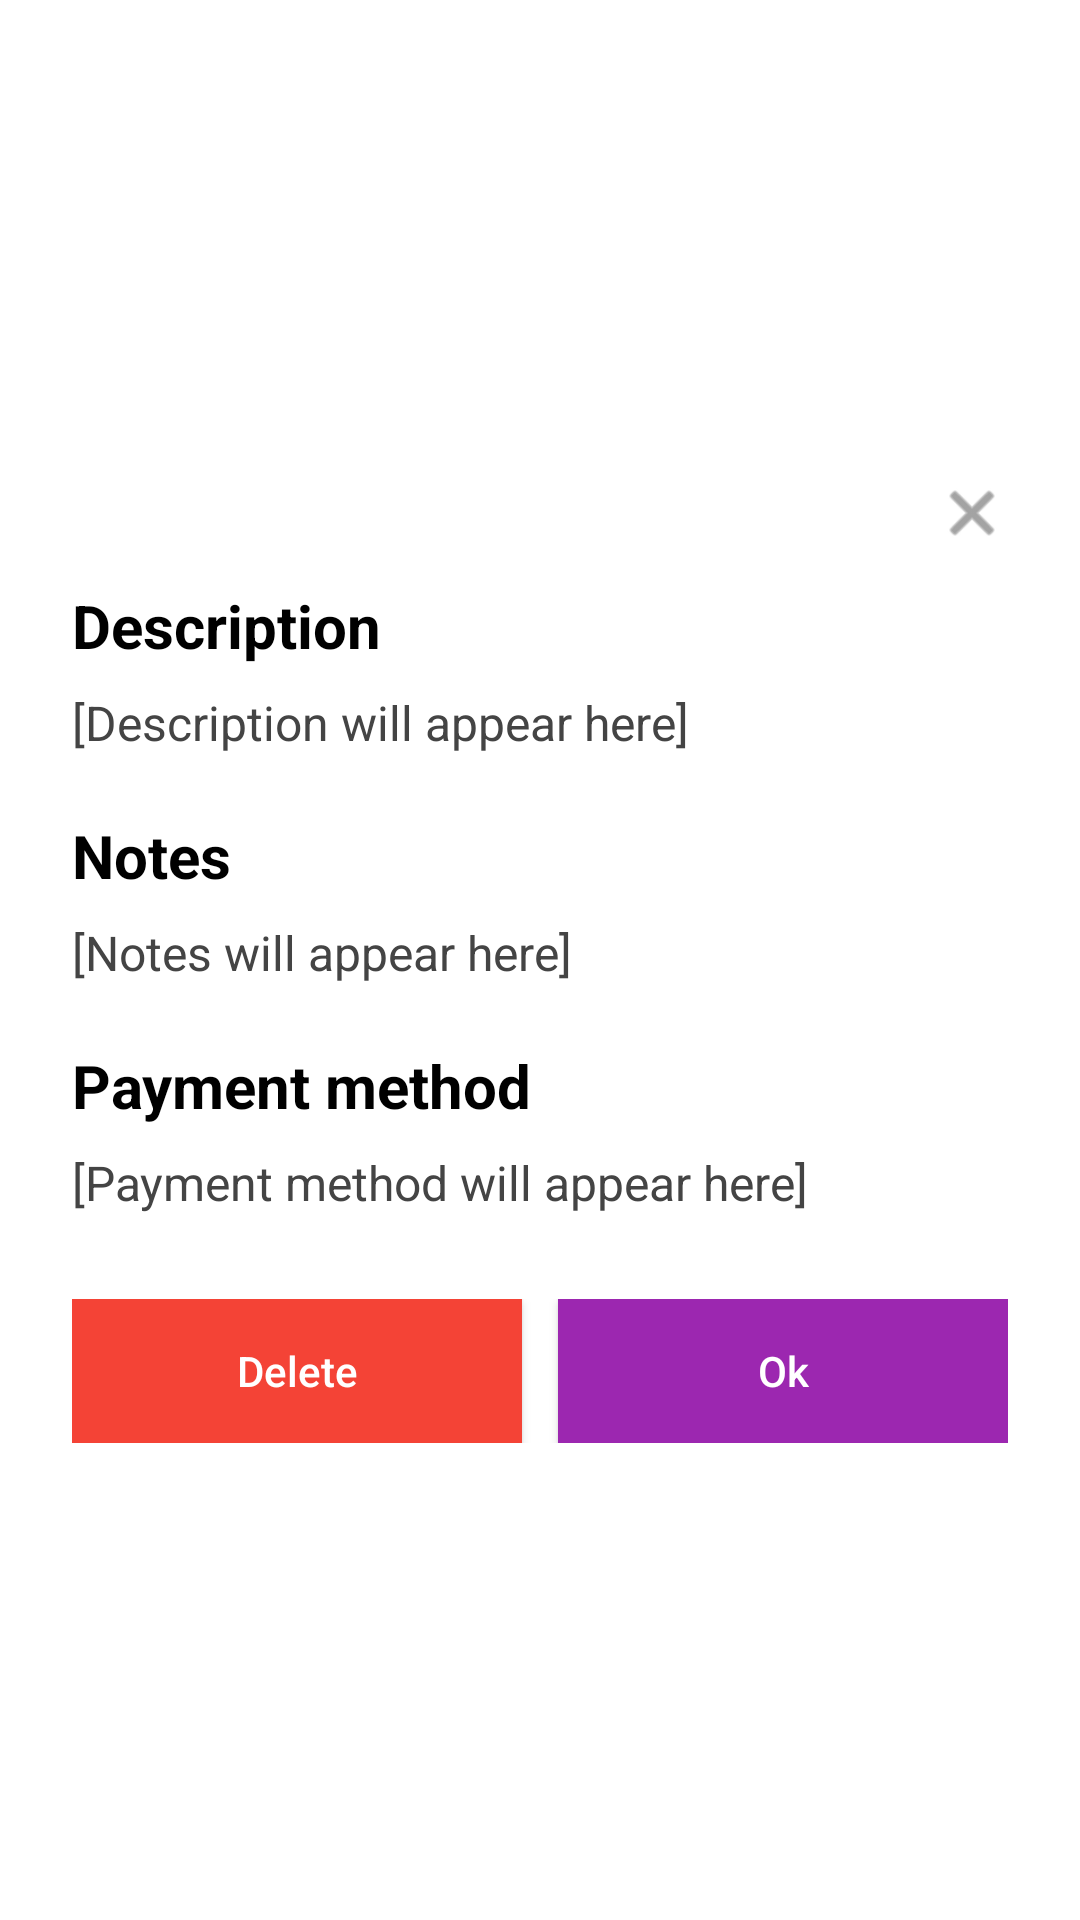

Screen size 1080 x 1920. Icon name, then its box in pixels as (x1, y1, x2, y2):
Close: (950, 491, 994, 535)
